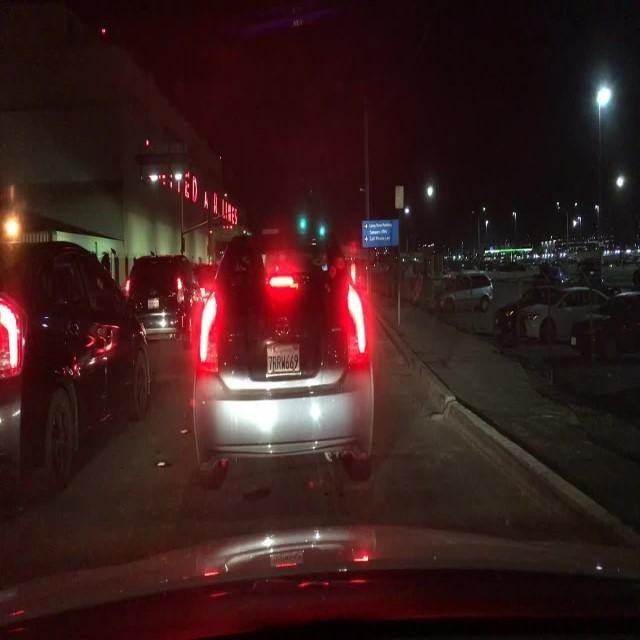normal: (184, 217, 380, 506), (122, 255, 211, 343), (488, 262, 569, 343), (434, 269, 493, 312)
